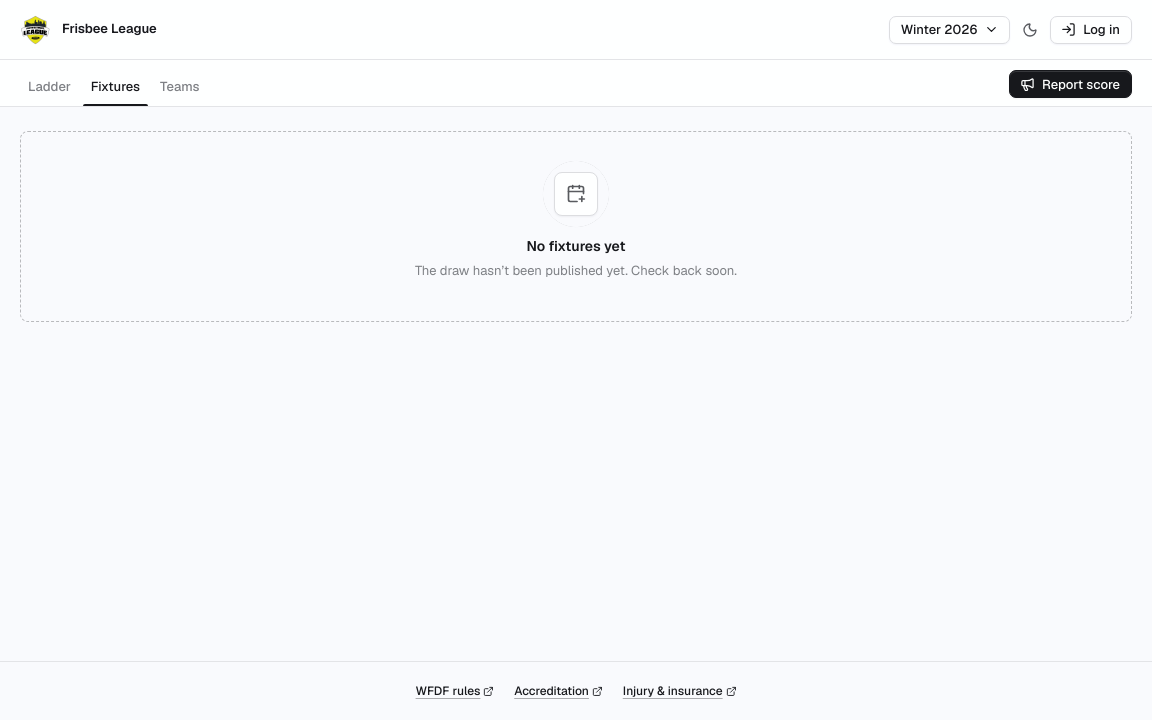
Dashboard › hides hidden seasons from players with several seasons
Click the button with aria-label "Season: Winter 2026" at {"x": 950, "y": 30}, box [889,16,1010,44]
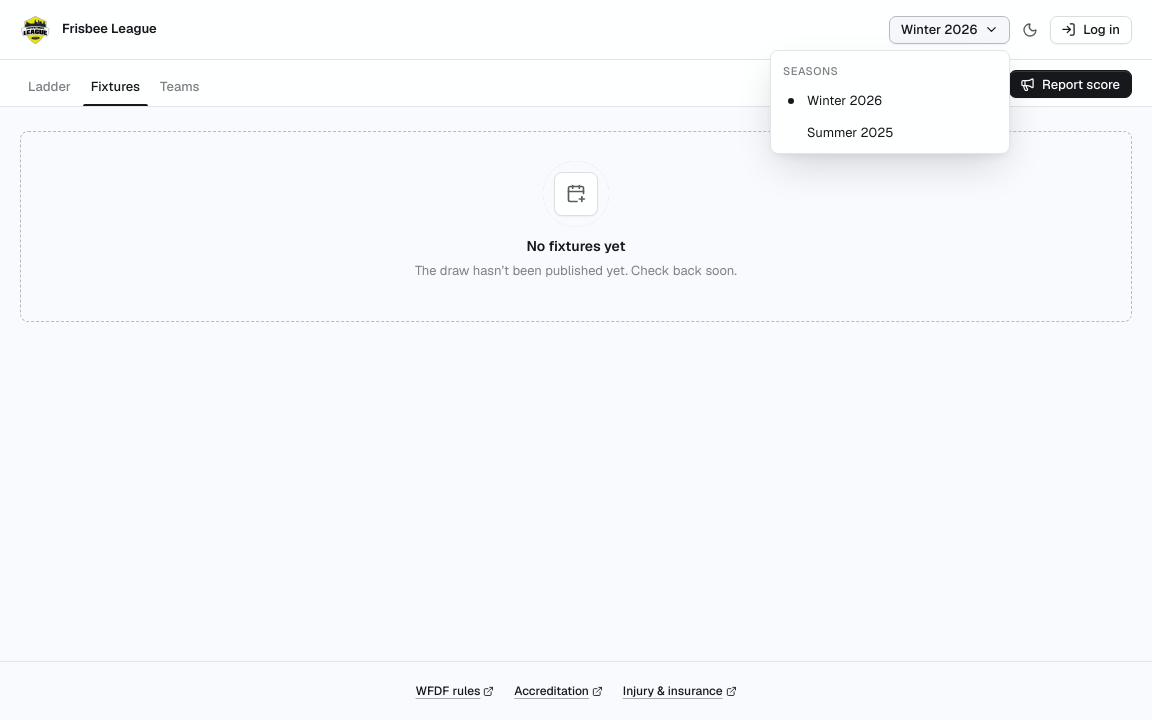
Expected: the menu item "Summer 2025" is shown, [807,124,893,141]
